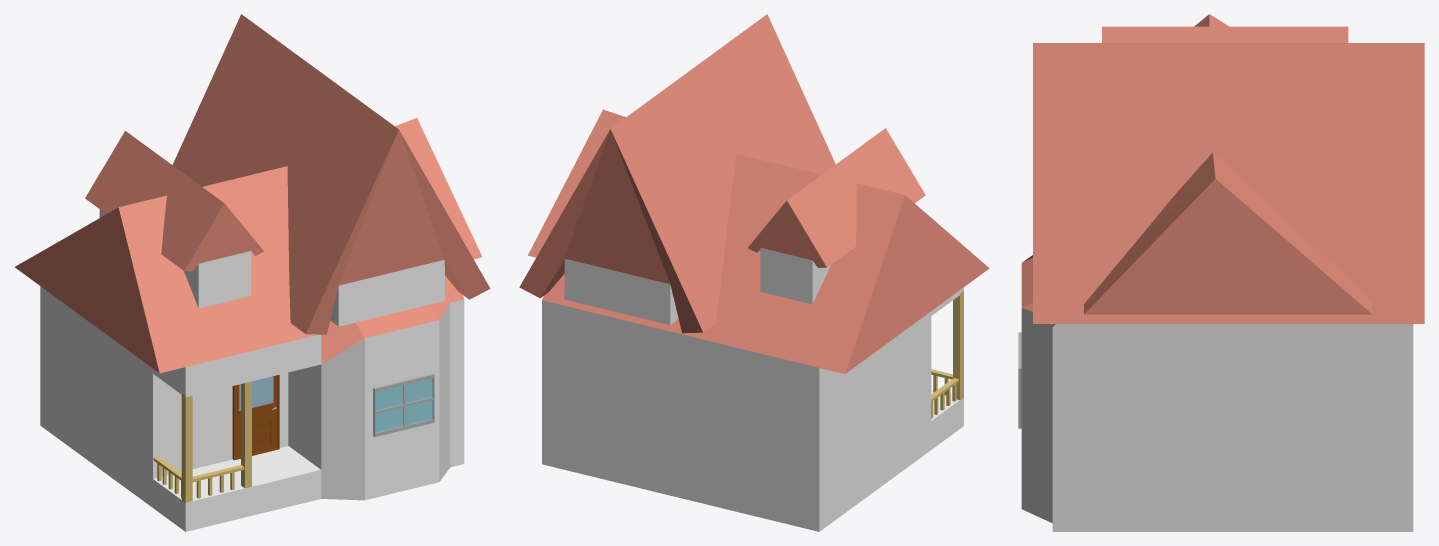
The model's file is house.gltf.
3 renders of one model, left to right at view 1: azimuth 30°, elevation 25°; view 2: azimuth 150°, elevation 25°; view 3: azimuth 270°, elevation 25°, orthographic. The views are drawn at different scales.
Visible parts, largest first — view 1: house1, house3, house2, Brown Door, 平面.002, 立方体; view 2: house1, house3, house2; view 3: house1, house3, house2.
Part boxes in pixels (<box>): house1: <box>14,118,482,531</box>; house3: <box>172,14,490,334</box>; house2: <box>85,131,263,308</box>; Brown Door: <box>232,374,279,460</box>; 平面.002: <box>376,378,432,432</box>; 立方体: <box>373,373,434,436</box>; house1: <box>528,109,989,531</box>; house3: <box>519,14,835,333</box>; house2: <box>748,128,925,304</box>; house1: <box>1021,14,1413,531</box>; house3: <box>1033,43,1424,323</box>; house2: <box>1102,26,1348,42</box>.
Size of the model in its own units: 14.54 by 14.84 by 12.28.
